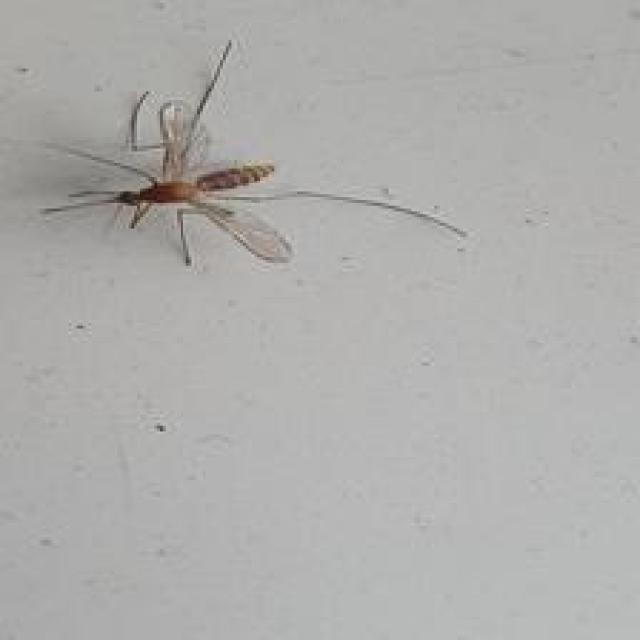Culex: (17, 39, 472, 270)
